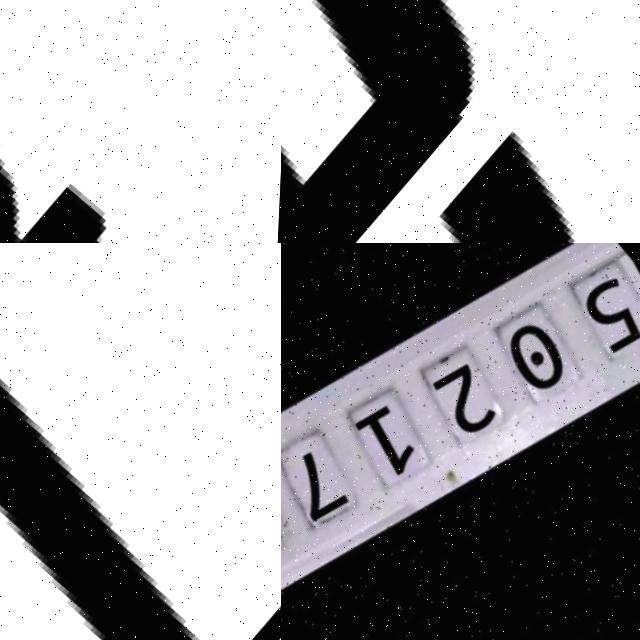0: (475, 290, 611, 420)
1: (0, 243, 281, 640), (329, 377, 464, 504)
2: (403, 332, 543, 465)
5: (552, 248, 640, 376)
6: (281, 459, 318, 586)
7: (281, 417, 393, 546)
A: (281, 0, 640, 243)
